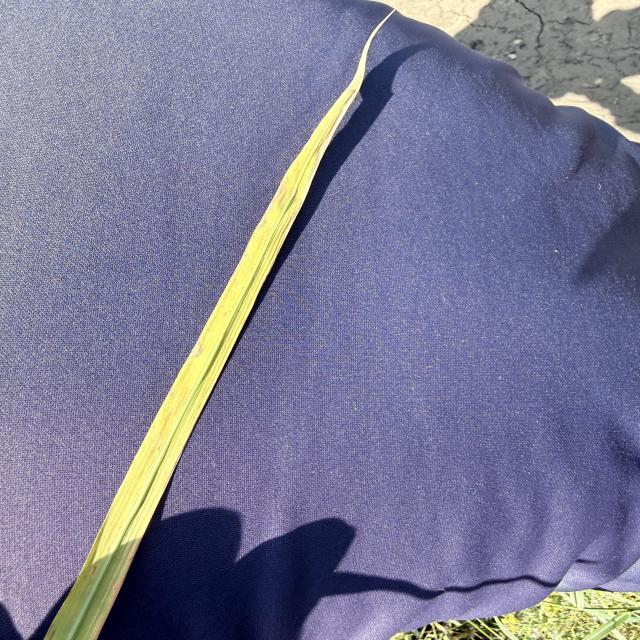Chay bia la: (274, 7, 398, 261)
